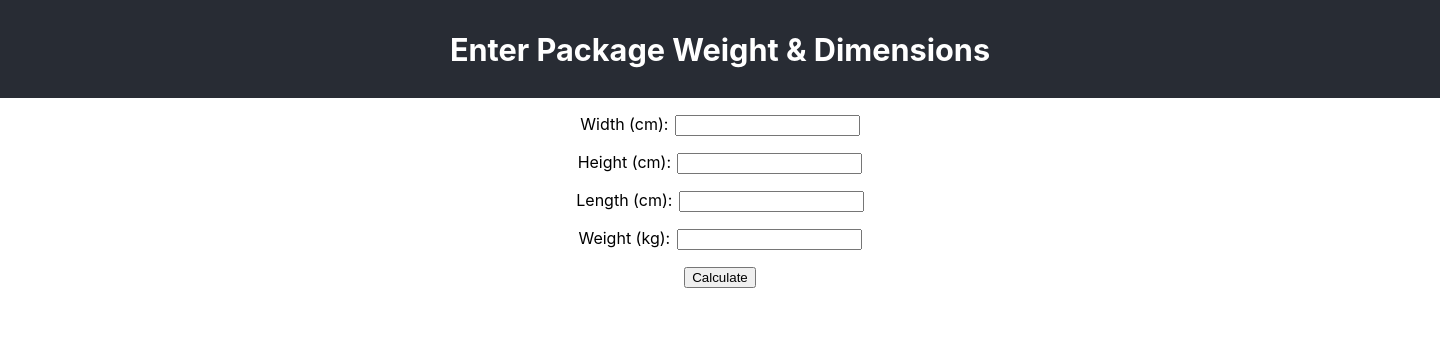
Component: Sort › when package is heavy AND bulky › should notify the user that the package will be REJECTED
This screenshot has width=1440, height=341.
Type "120" into the number field with test id "input-height".
click(770, 164); type("120")  # box 677,153 -> 862,174
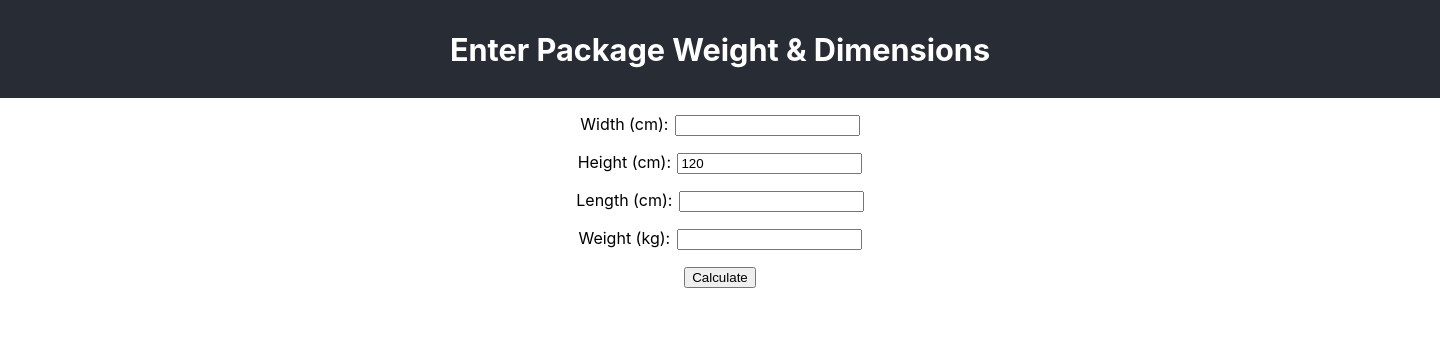
Type "120" into the number field with test id "input-length".
click(771, 202); type("120")  # box 679,191 -> 864,212
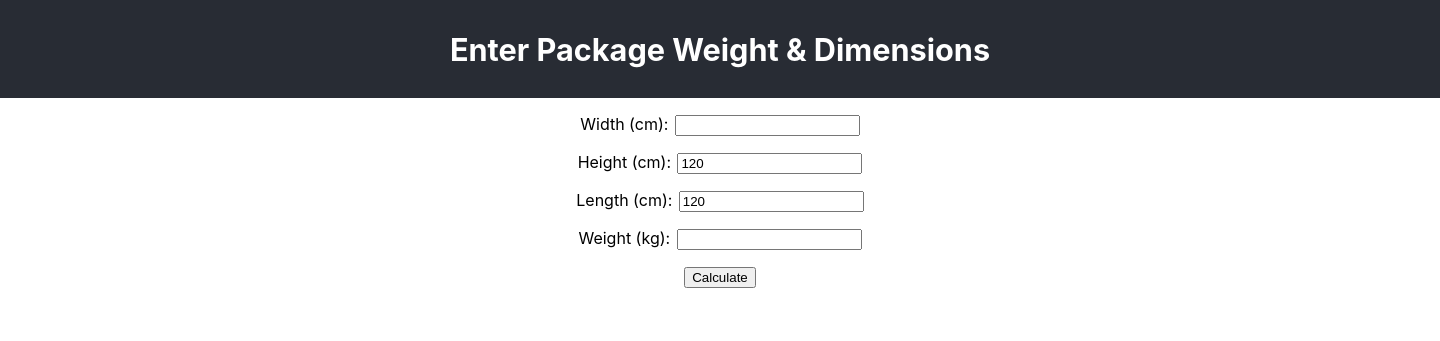
Type "120" into the number field with test id "input-weight".
click(769, 240); type("120")  # box 676,229 -> 862,250
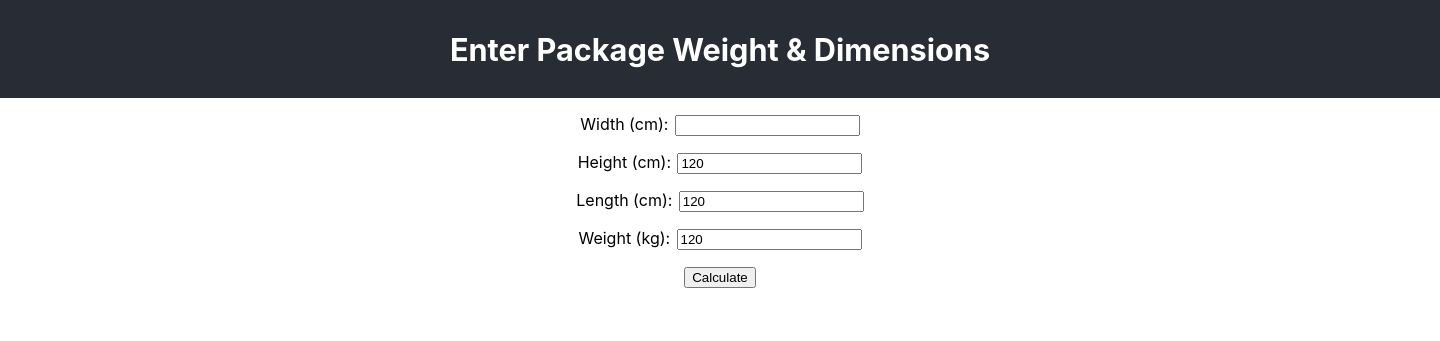
Type "120" into the number field with test id "input-width".
click(767, 126); type("120")  # box 675,115 -> 860,136
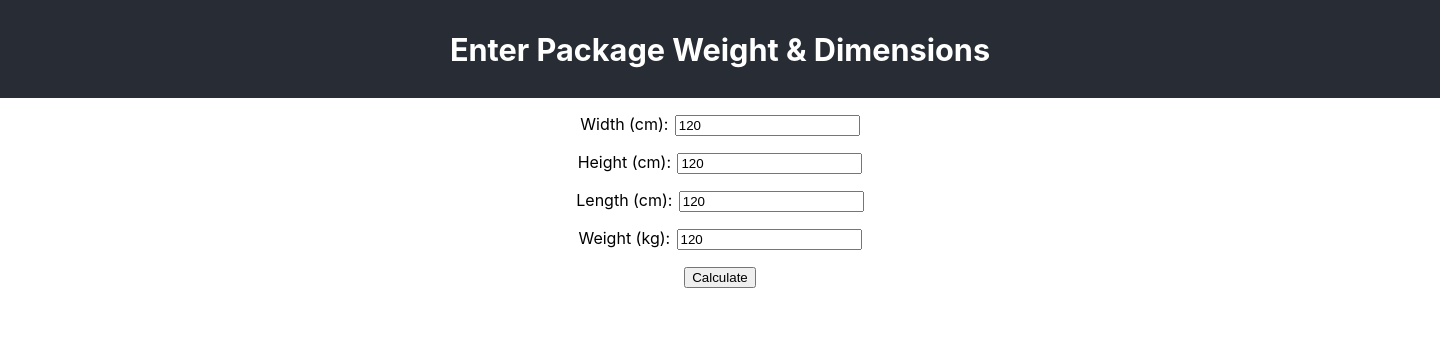
Click the button with test id "button".
click(720, 278)  # box 684,267 -> 756,288
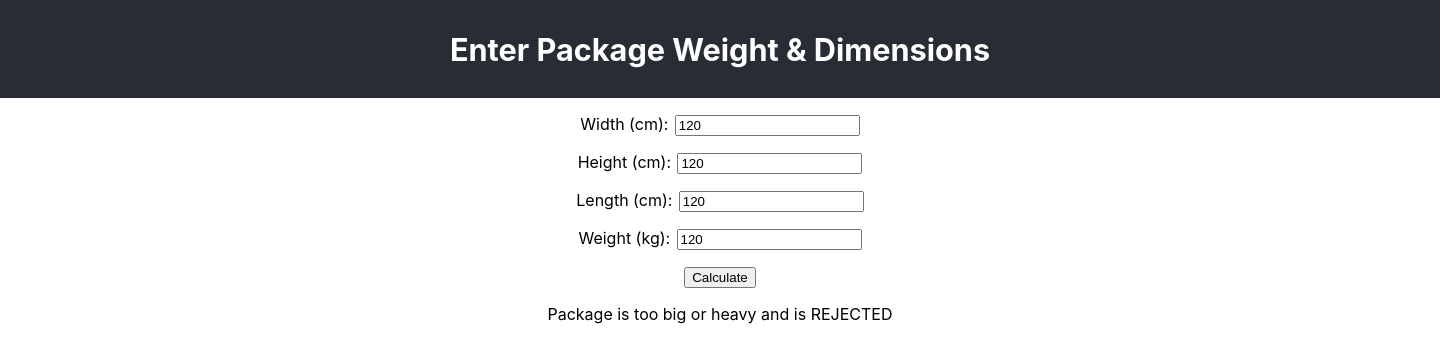
Result: the text "Package is too big or heavy and is REJECTED" is shown at 548,304 -> 892,324
